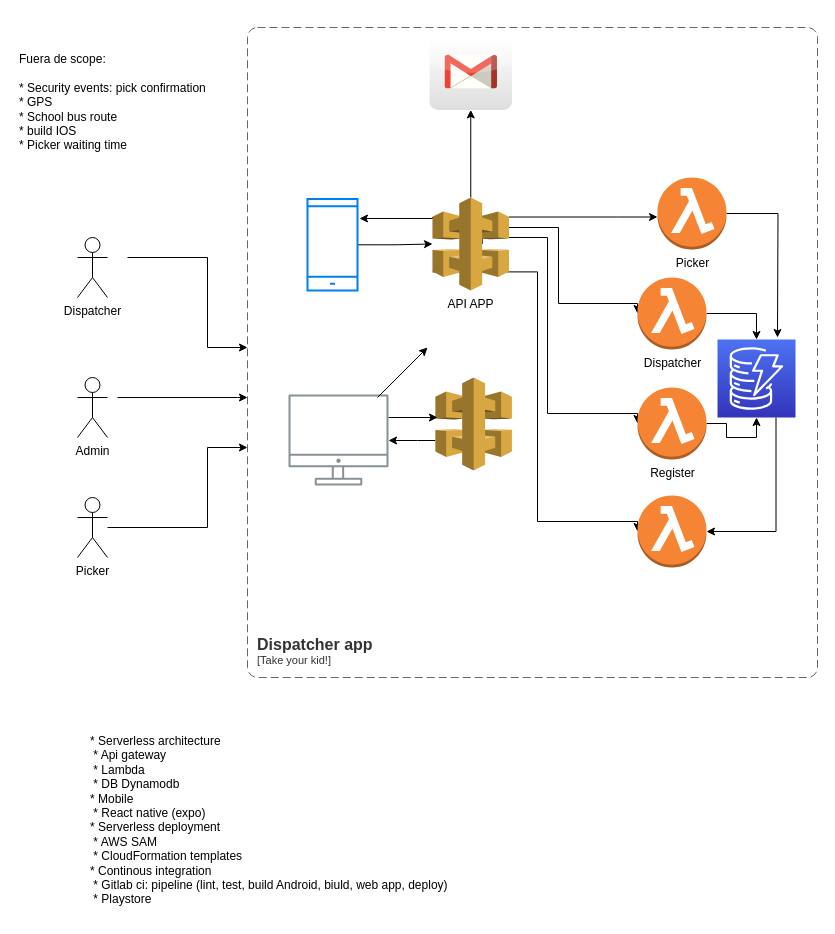
Some shapes in this 835 by 934 pixel diagram are drawn without their labels. The shapes that lost their labels are listed below. From the top down, each one's centre as x and y in pixels, then its label:
(470,73): Autenticación
(338,439): desktop
(473,423): API WEB
(671,531): Notifier
